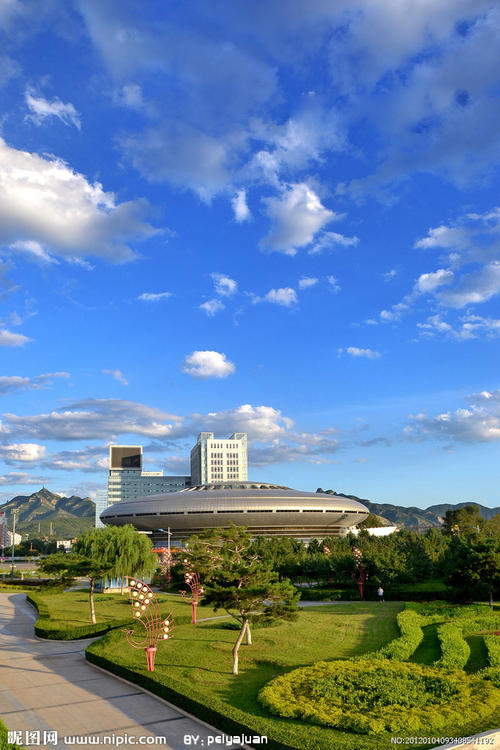buildings: (89, 422, 380, 543)
sky_cloud: (1, 61, 494, 431)
